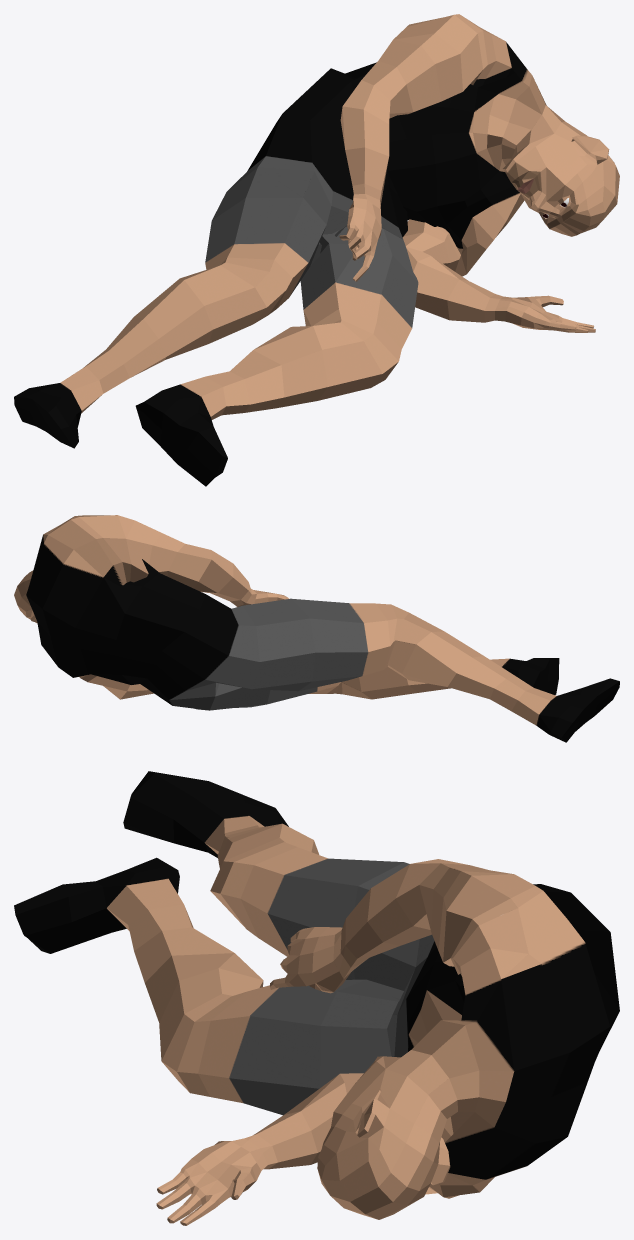
Rendered from PlayerDead(87).obj.
The picture shows the model from 3 angles, top to bottom: view 1: azimuth 30°, elevation 25°; view 2: azimuth 150°, elevation 25°; view 3: azimuth 270°, elevation 25°; orthographic projection. The views are drawn at different scales.
Visible parts, largest first — view 1: Plane002; view 2: Plane002; view 3: Plane002.
Boxes of the visible parts, x1,y1,x2,y2 form: Plane002: [14, 14, 619, 486]; Plane002: [14, 515, 619, 742]; Plane002: [14, 771, 619, 1225].
Bounding box in the file's own units: 1572 × 557 × 920.
